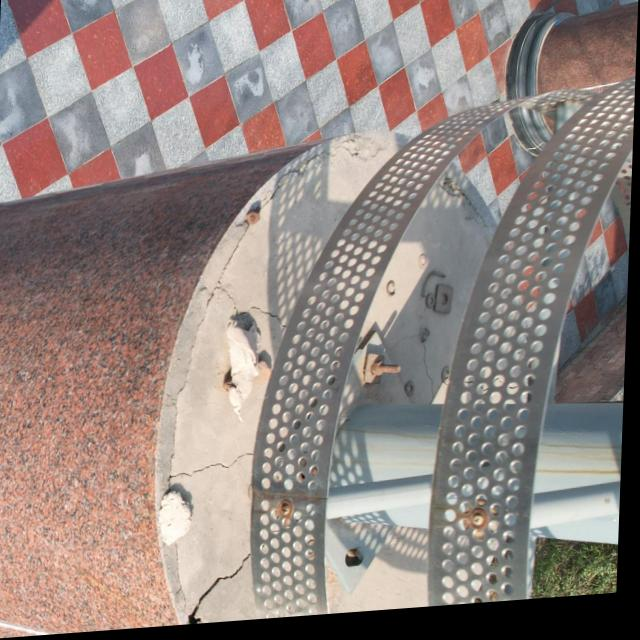Rusty bolt: (375, 366, 404, 384)
